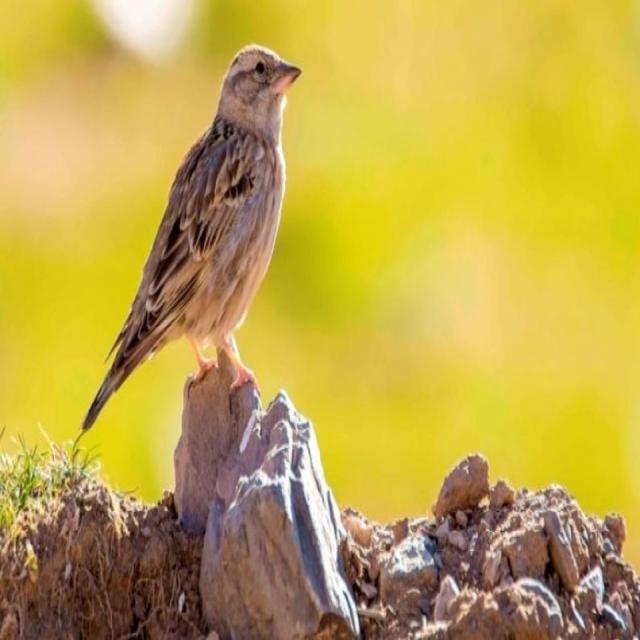bird: (73, 35, 305, 460)
